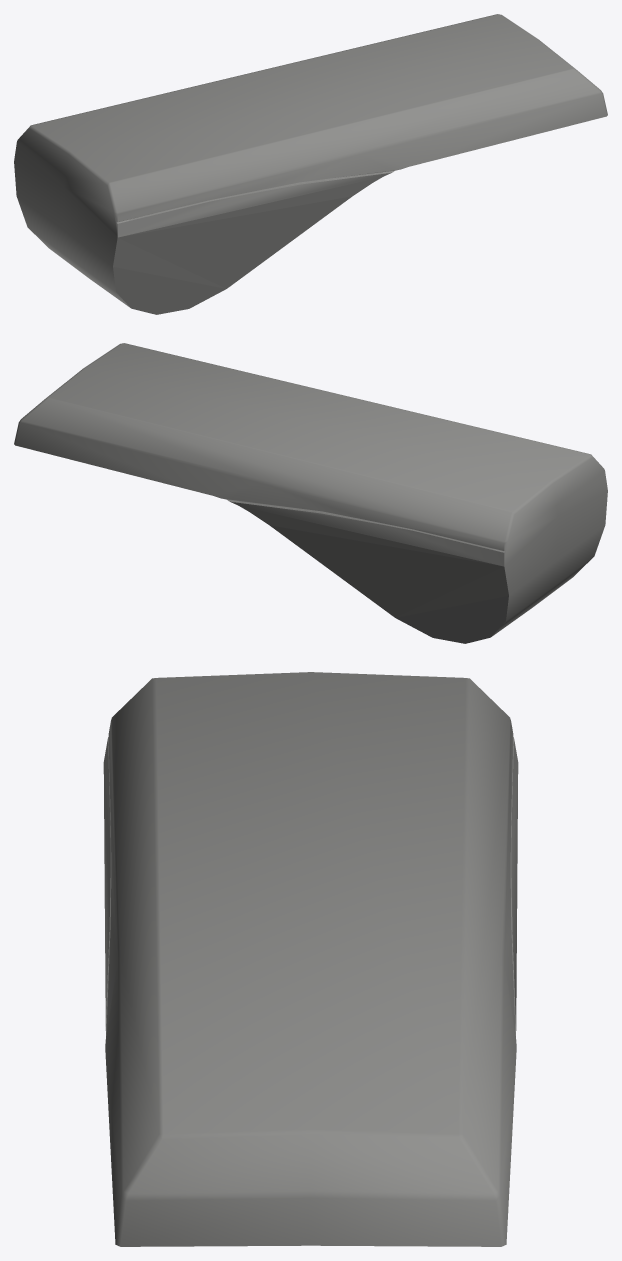
Rendered from Streetlight_10_Micro.glb.
3 views of the same model, one above another, from view 1: azimuth 30°, elevation 25°; view 2: azimuth 150°, elevation 25°; view 3: azimuth 270°, elevation 25° (orthographic). The views are drawn at different scales.
Parts seen in each view (by area): view 1: BezierCurve.005; view 2: BezierCurve.005; view 3: BezierCurve.005.
Part boxes in pixels (x1,y1,x2,y2): BezierCurve.005: (14, 14, 607, 314); BezierCurve.005: (14, 343, 607, 643); BezierCurve.005: (103, 672, 518, 1246).
Size of the model in its own units: 0.479 by 0.1379 by 0.1732.
3 materials, 2 textured.
